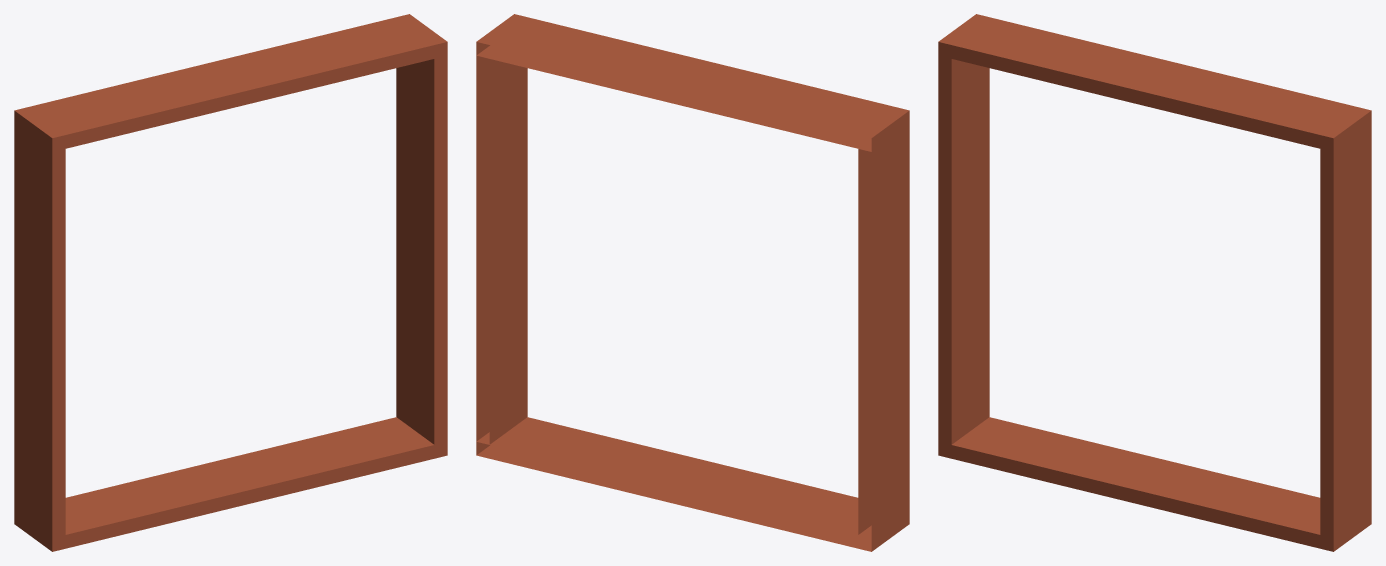
Rendered from construction_2.glb.
3 views of the same model, side by side, from view 1: azimuth 30°, elevation 25°; view 2: azimuth 150°, elevation 25°; view 3: azimuth 330°, elevation 25° (orthographic).
Visible parts, largest first — view 1: c2; view 2: c2; view 3: c2.
Part boxes in pixels (x1=…): c2: x1=14, y1=14, x2=447, y2=551; c2: x1=476, y1=14, x2=909, y2=551; c2: x1=938, y1=14, x2=1371, y2=551.
Bounding box in the file's own units: 30 × 30 × 5.
